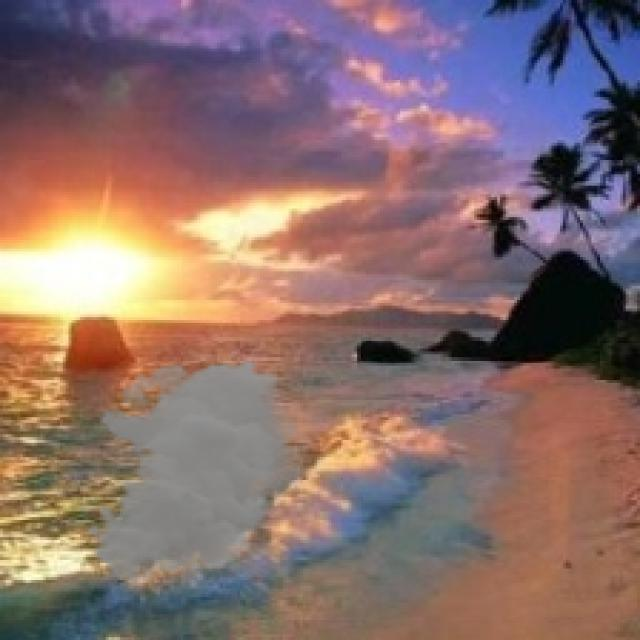smoke: (86, 357, 311, 583)
